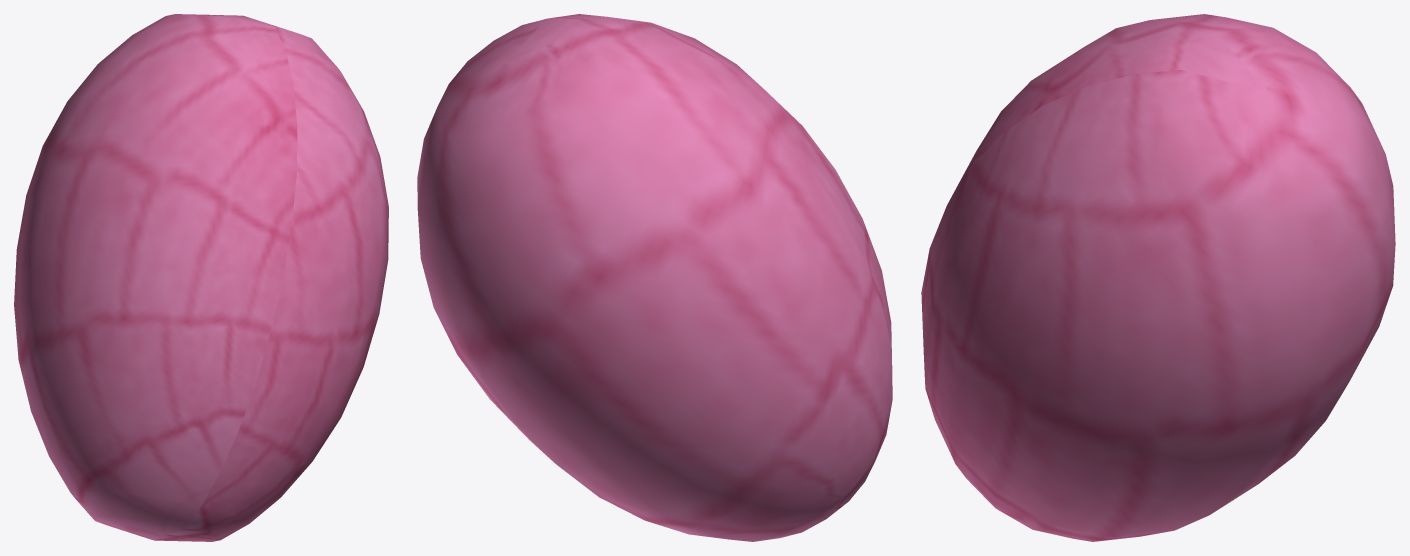
Rendered from pied_gauche.fbx.
3 views of the same model, side by side, from view 1: azimuth 30°, elevation 25°; view 2: azimuth 150°, elevation 25°; view 3: azimuth 270°, elevation 25° (orthographic). The views are drawn at different scales.
Parts seen in each view (by area): view 1: pSphere29; view 2: pSphere29; view 3: pSphere29.
Boxes of the visible parts, left/top/right/bottom form: pSphere29: left=14, top=14, right=388, bottom=541; pSphere29: left=417, top=14, right=892, bottom=541; pSphere29: left=921, top=14, right=1395, bottom=541.
Bounding box in the file's own units: 0.1739 × 0.2172 × 0.1697.
